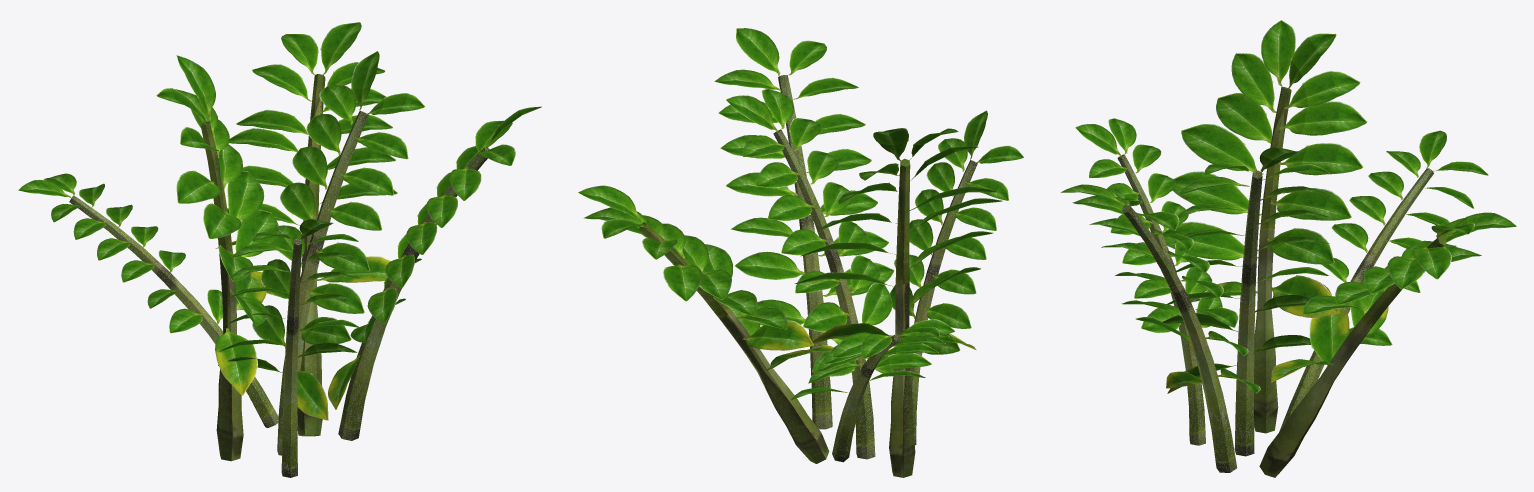
The model's file is zamioculcas.dae.
The picture shows the model from 3 angles, left to right: view 1: azimuth 30°, elevation 25°; view 2: azimuth 150°, elevation 25°; view 3: azimuth 270°, elevation 25°; orthographic projection. The views are drawn at different scales.
Visible parts, largest first — view 1: Shape_Bender_Component (×37), group_11 (×2), group_6, group_16, group_13, group_1, group_10 (×2), group_8, group_2, group_7; view 2: Shape_Bender_Component (×53), group_11 (×2), group_6, group_1, group_16, group_13, group_4, group_7; view 3: Shape_Bender_Component (×34), group_11 (×2), group_6, group_1, group_16, group_13, group_3, group_7, group_2.
Part boxes in pixels (<box>): Shape_Bender_Component (×37): <box>169,22,512,348</box>; group_11 (×2): <box>277,110,489,455</box>; group_6: <box>200,121,243,461</box>; group_16: <box>281,238,302,477</box>; group_13: <box>69,195,278,427</box>; group_1: <box>297,74,325,436</box>; group_10 (×2): <box>297,355,360,420</box>; group_8: <box>215,328,257,395</box>; group_2: <box>316,256,390,282</box>; group_7: <box>235,271,266,310</box>; Shape_Bender_Component (×53): <box>578,28,1023,369</box>; group_11 (×2): <box>773,75,875,459</box>; group_6: <box>889,158,915,477</box>; group_1: <box>639,222,829,463</box>; group_16: <box>910,160,977,445</box>; group_13: <box>832,334,901,462</box>; group_4: <box>742,320,813,350</box>; group_7: <box>812,323,892,343</box>; Shape_Bender_Component (×34): <box>1072,20,1516,352</box>; group_11 (×2): <box>1122,170,1262,472</box>; group_6: <box>1254,86,1291,433</box>; group_1: <box>1259,235,1446,477</box>; group_16: <box>1117,154,1205,445</box>; group_13: <box>1279,168,1433,431</box>; group_3: <box>1309,308,1349,365</box>; group_7: <box>1269,275,1339,317</box>; group_2: <box>1271,359,1333,382</box>.
Size of the model in its own units: 32.58 by 34.14 by 32.55.
Materials: 3 (2 with a texture image).
